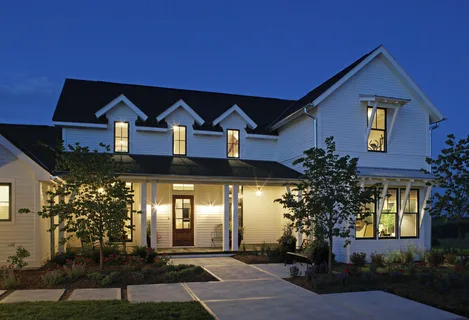private_hause: (47, 44, 439, 271)
